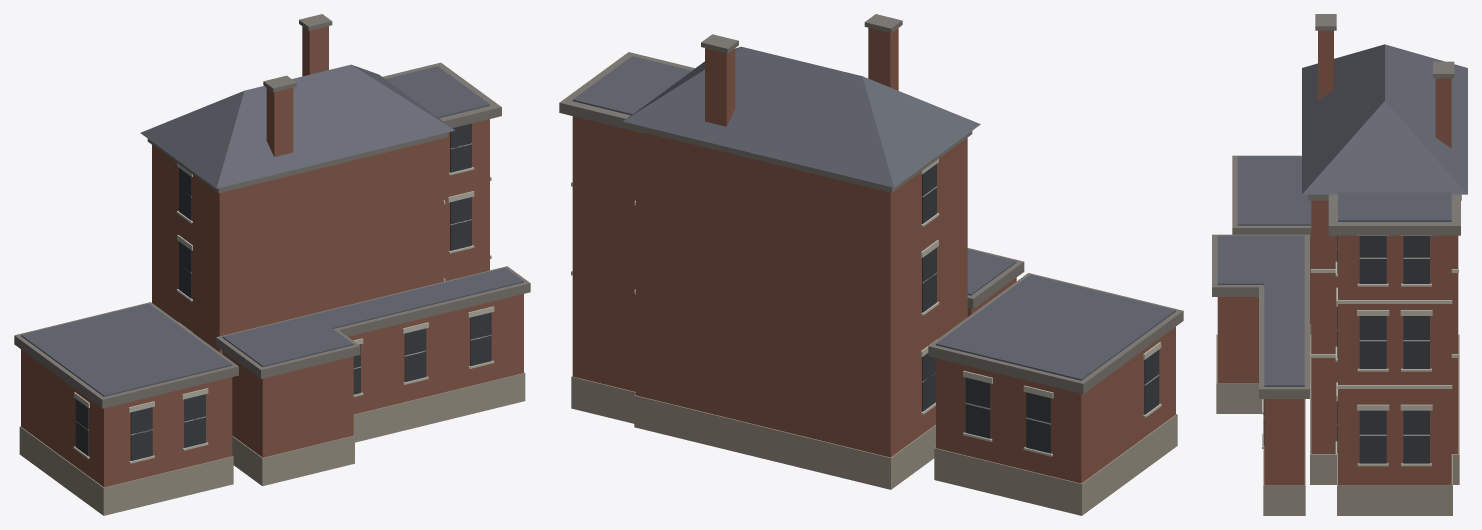
File: house_1917_indiana__draft_1904.glb
3 views of the same model, side by side, from view 1: azimuth 30°, elevation 25°; view 2: azimuth 150°, elevation 25°; view 3: azimuth 270°, elevation 25° (orthographic). The views are drawn at different scales.
Visible parts, largest first — view 1: house_1917_indiana__draft_1904; view 2: house_1917_indiana__draft_1904; view 3: house_1917_indiana__draft_1904.
Part boxes in pixels (box(x1,y1,x2,y2)): house_1917_indiana__draft_1904: box(14, 14, 530, 515); house_1917_indiana__draft_1904: box(559, 14, 1183, 515); house_1917_indiana__draft_1904: box(1212, 14, 1467, 515).
Size of the model in its own units: 20.8 by 15.7 by 9.55.
